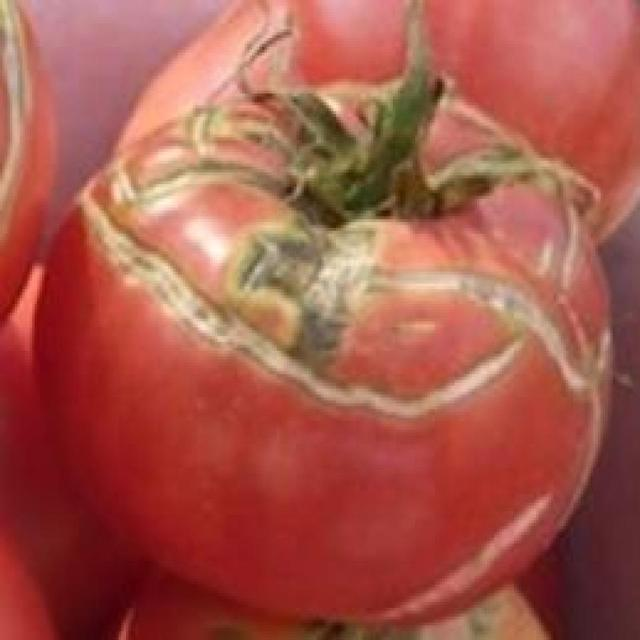Cracking Fruit: (130, 49, 303, 370)
